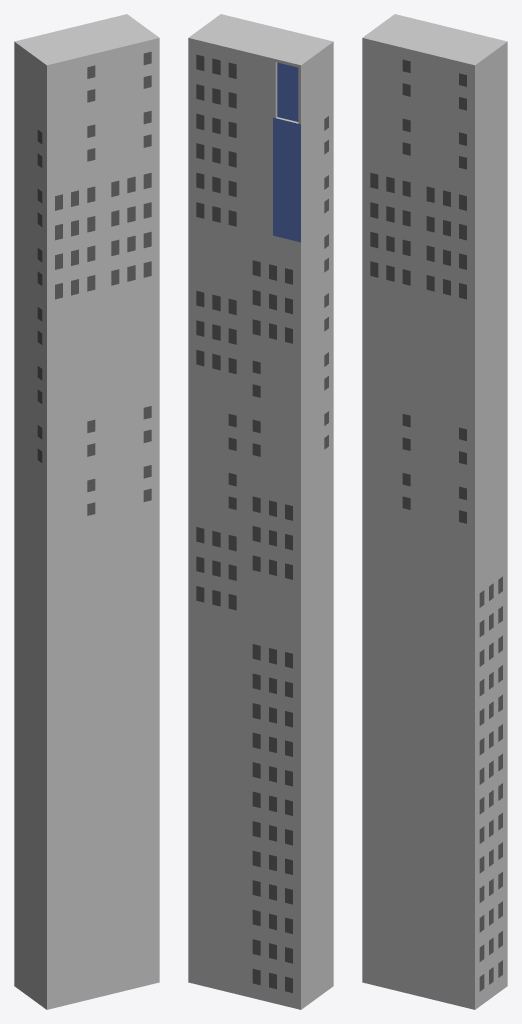
File: SkyScraperModule02.fbx
The picture shows the model from 3 angles, left to right: view 1: azimuth 30°, elevation 25°; view 2: azimuth 150°, elevation 25°; view 3: azimuth 330°, elevation 25°; orthographic projection.
Visible parts, largest first — view 1: Skyscraper.002; view 2: Skyscraper.002; view 3: Skyscraper.002.
Part boxes in pixels (box(x1,y1,x2,y2)): Skyscraper.002: box(14, 14, 159, 1009); Skyscraper.002: box(188, 14, 333, 1009); Skyscraper.002: box(362, 14, 507, 1009).
Bounding box in the file's own units: 200 × 1600 × 100.
